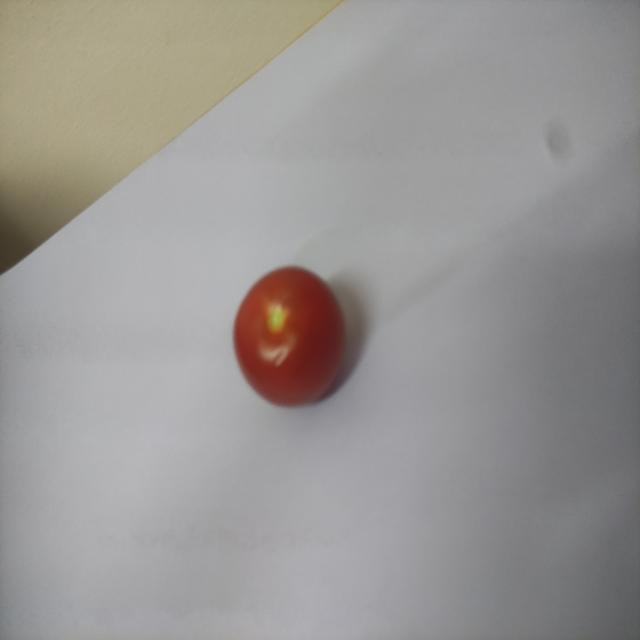kirmizi: (217, 253, 367, 411)
